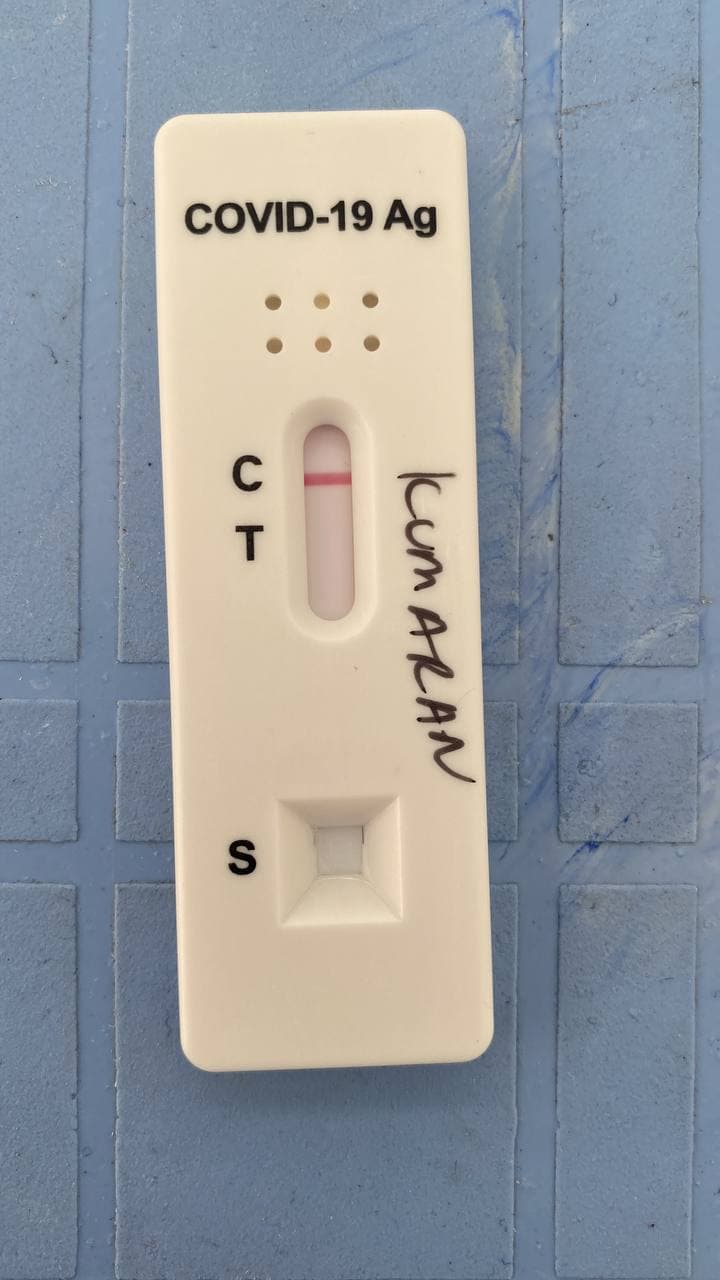rapid_test: (149, 101, 494, 1078)
